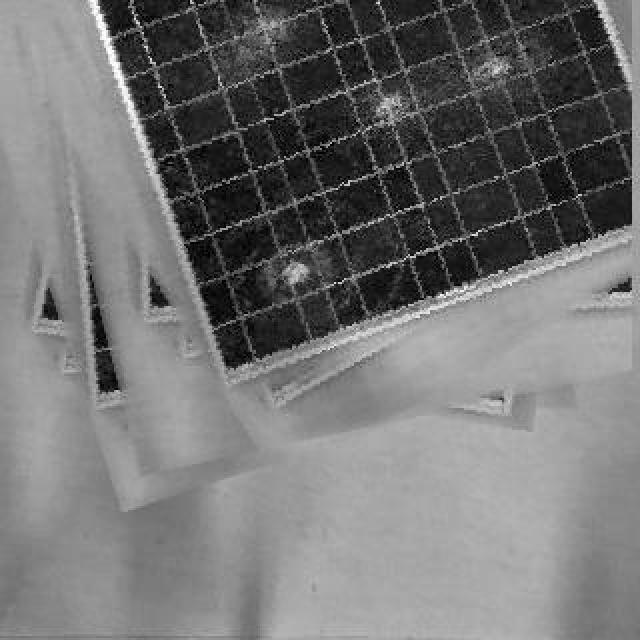Physical-damage: (252, 234, 333, 316), (230, 4, 299, 62), (366, 88, 416, 135), (472, 50, 518, 91)
